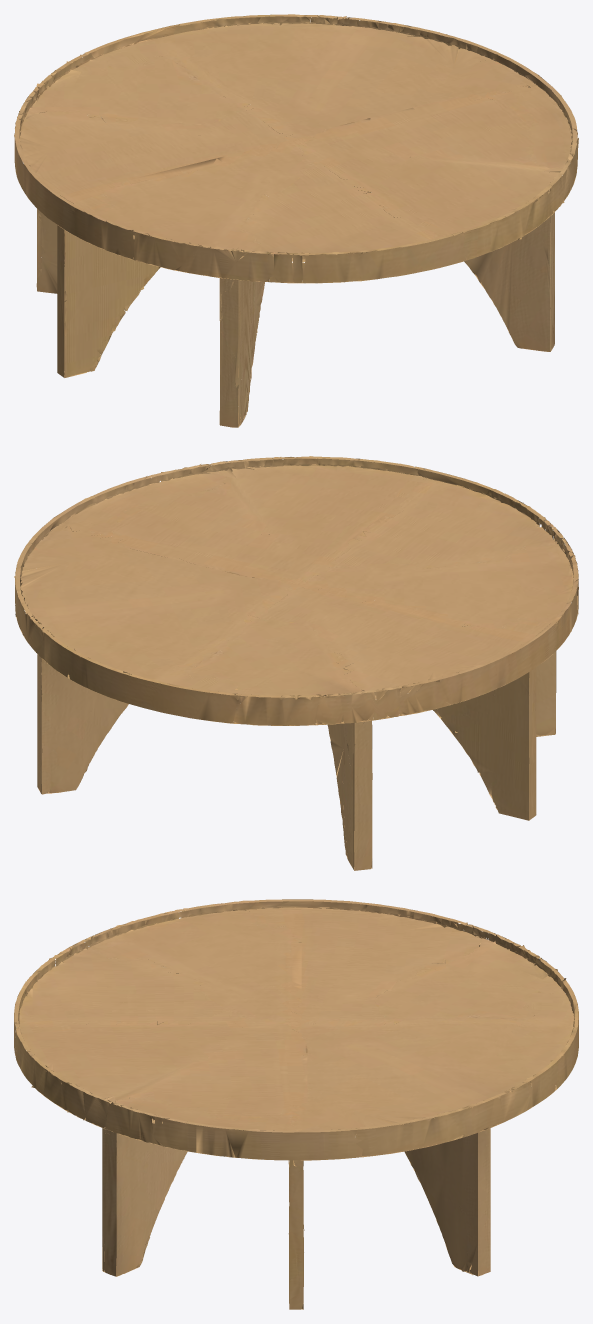
The model's file is ikea-stockholm-2025-coffee-table-oak-veneer-glass-20586552.glb.
The picture shows the model from 3 angles, top to bottom: view 1: azimuth 30°, elevation 25°; view 2: azimuth 150°, elevation 25°; view 3: azimuth 270°, elevation 25°; orthographic projection.
Visible parts, largest first — view 1: model; view 2: model; view 3: model.
Part boxes in pixels (x1=…): model: x1=14, y1=14, x2=578, y2=427; model: x1=14, y1=456, x2=578, y2=870; model: x1=14, y1=899, x2=578, y2=1309.
Size of the model in its own units: 1.68 by 0.6141 by 1.72.
Materials: 1 (1 with a texture image).
